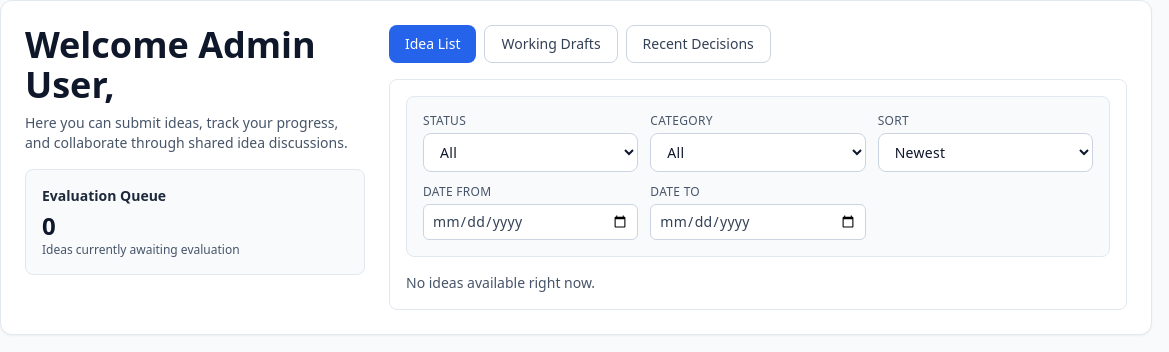
Scenario: dashboard shared ideas and onboarding copy › shows admin recent decisions tab and keeps non-idea tabs filter-free
Step 1. Click the button with aria-label "Show recent decisions" → (698, 44), box [626,25,771,63]
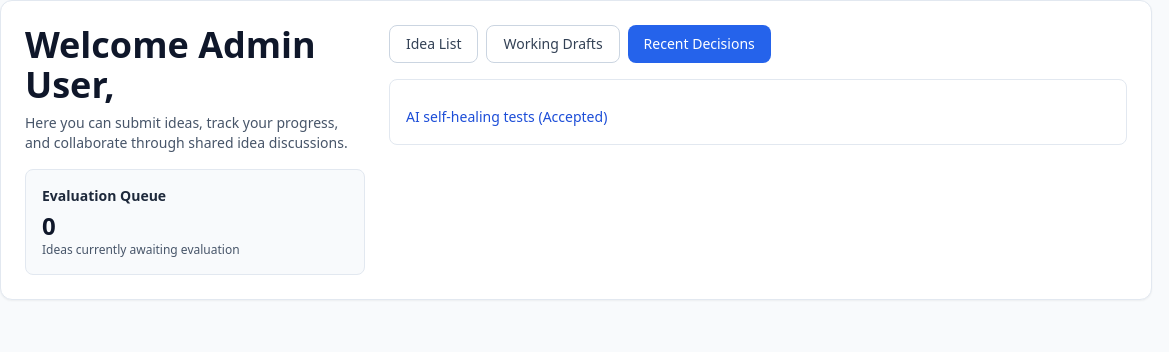
Check: the text "AI self-healing tests" is shown, box [406,107,607,126]
